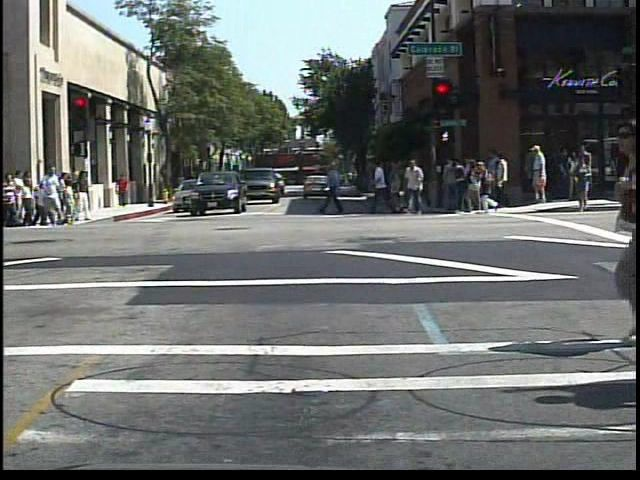person: (40, 164, 66, 230), (525, 144, 552, 207), (1, 168, 22, 230), (114, 173, 132, 210)
